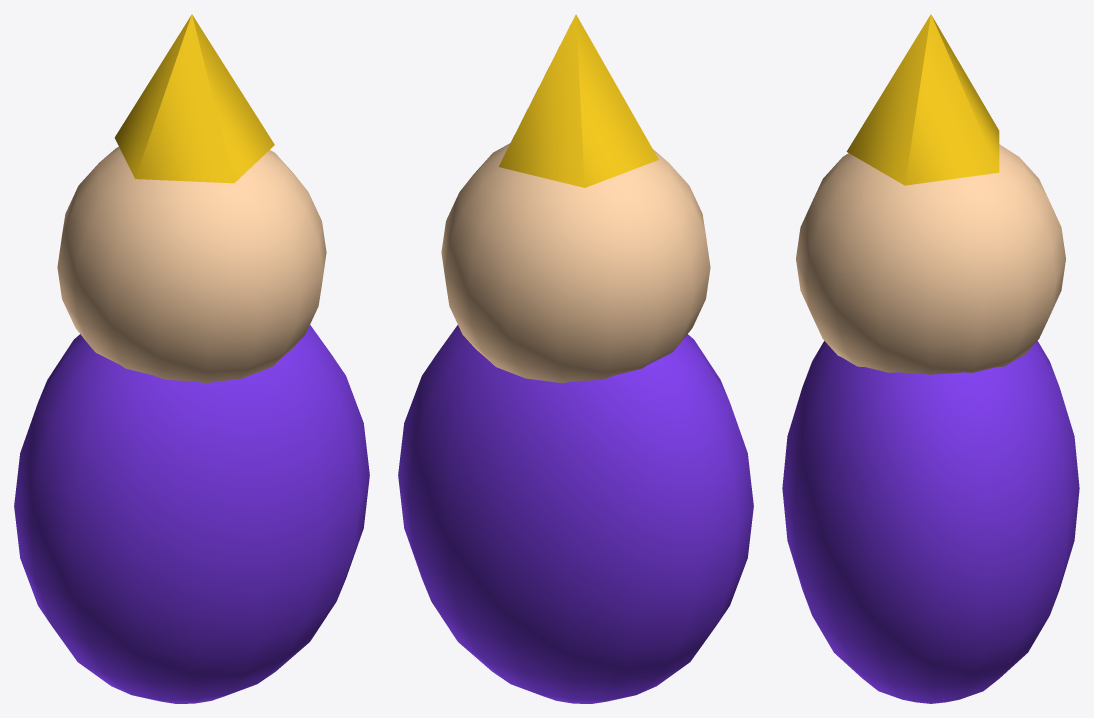
The model's file is ar-hero.gltf.
3 renders of one model, left to right at view 1: azimuth 30°, elevation 25°; view 2: azimuth 150°, elevation 25°; view 3: azimuth 270°, elevation 25°, orthographic.
Size of the model in its own units: 0.44 by 0.884 by 0.352.
